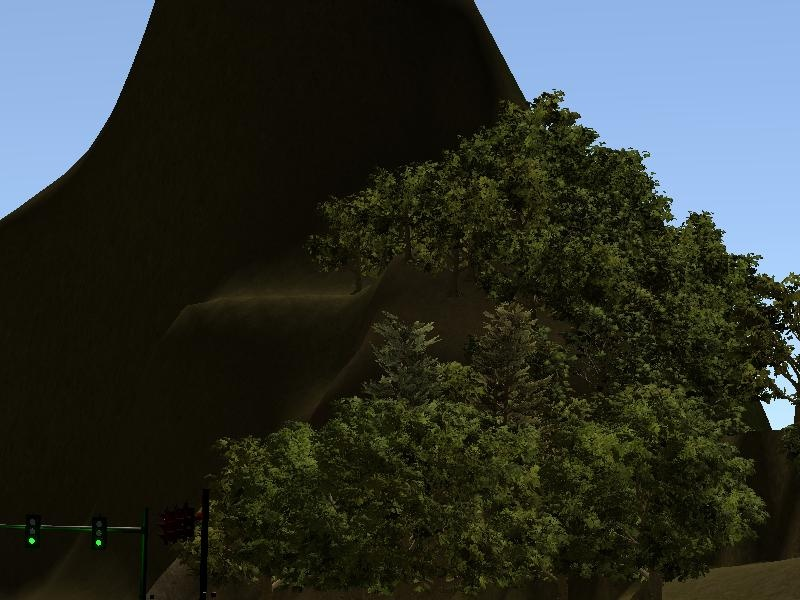Green: (91, 517, 107, 550), (25, 515, 40, 550)
